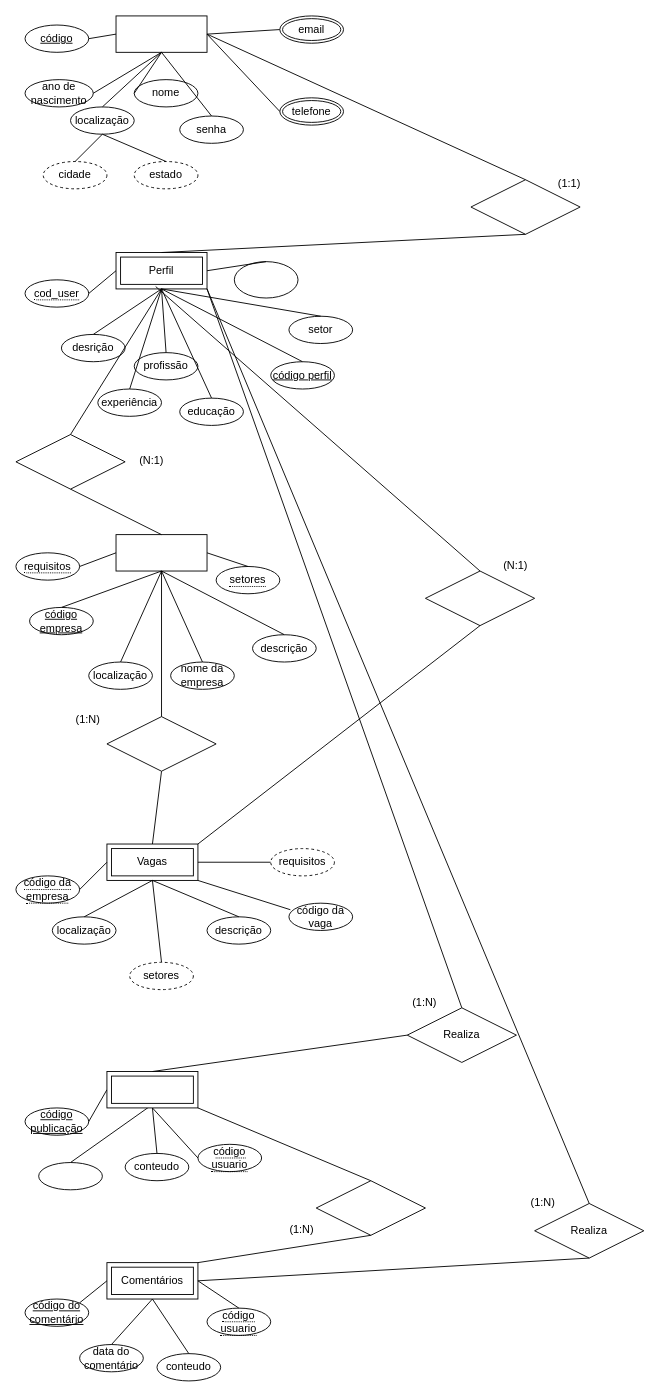
Some shapes in this 660 by 1397 pixel diagram are drawn without their labels. The shapes that lost their labels are listed below. From the top down, each one's box as (x1, y1, x2, y2) in pixels, then its label:
(115, 15, 207, 52): User
(470, 179, 580, 234): Cria
(233, 261, 298, 298): codigo da empresa
(15, 434, 125, 489): Trabalha
(115, 534, 207, 571): Emprasas
(425, 570, 535, 626): contratação
(106, 716, 216, 771): Gera
(106, 1071, 198, 1108): Publicações
(38, 1162, 102, 1190): data da publicação
(315, 1180, 425, 1235): possui
